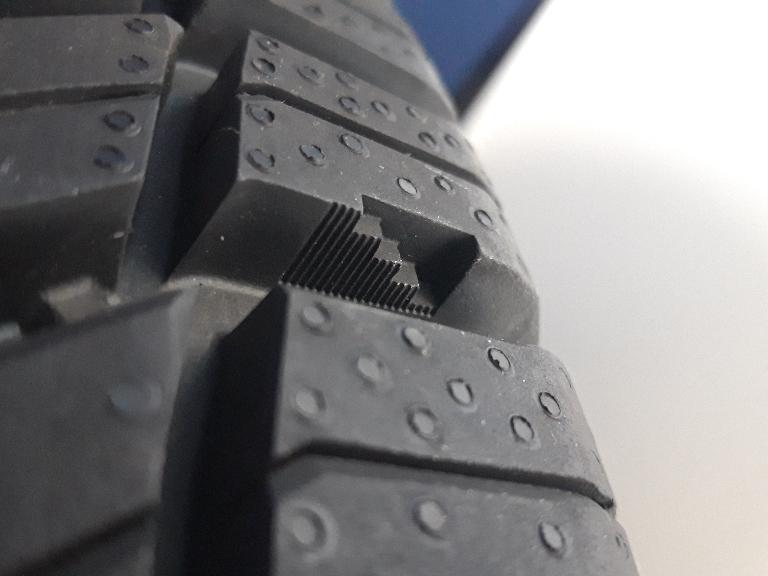temoin:100: (277, 176, 485, 322)
